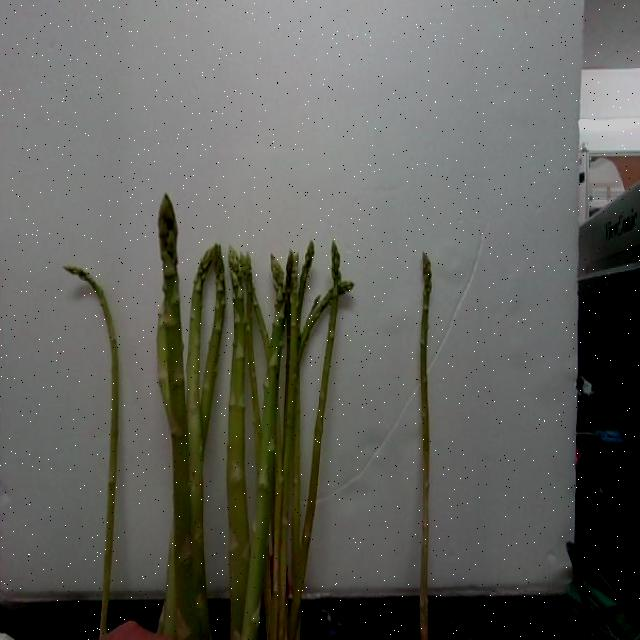aspargus: (159, 196, 207, 640), (67, 266, 121, 622), (419, 257, 435, 640)
